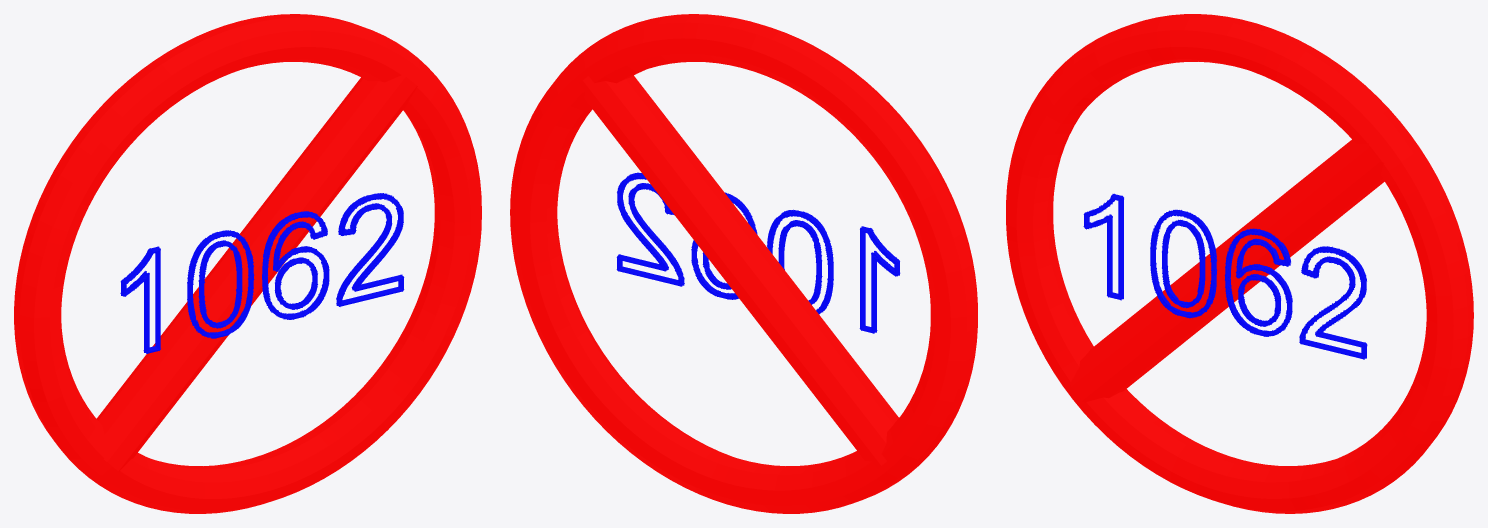
3 views of the same model, side by side, from view 1: azimuth 30°, elevation 25°; view 2: azimuth 150°, elevation 25°; view 3: azimuth 330°, elevation 25° (orthographic).
Bounding box in the file's own units: 0.9999 × 1 × 0.1052.
